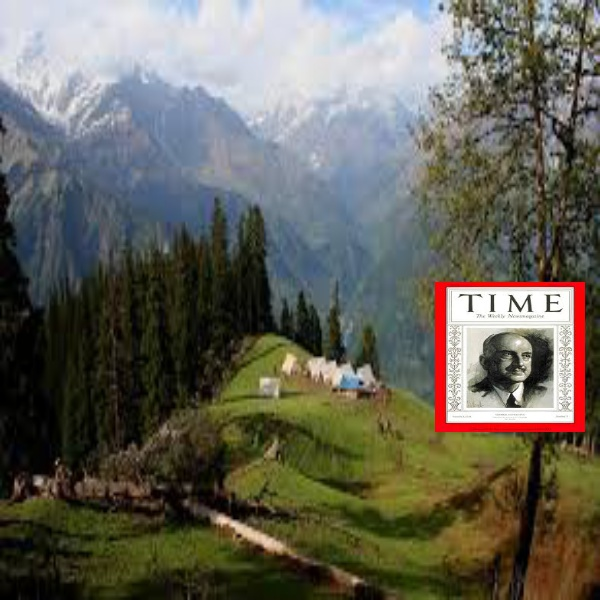time_cover: (434, 277, 598, 435)
